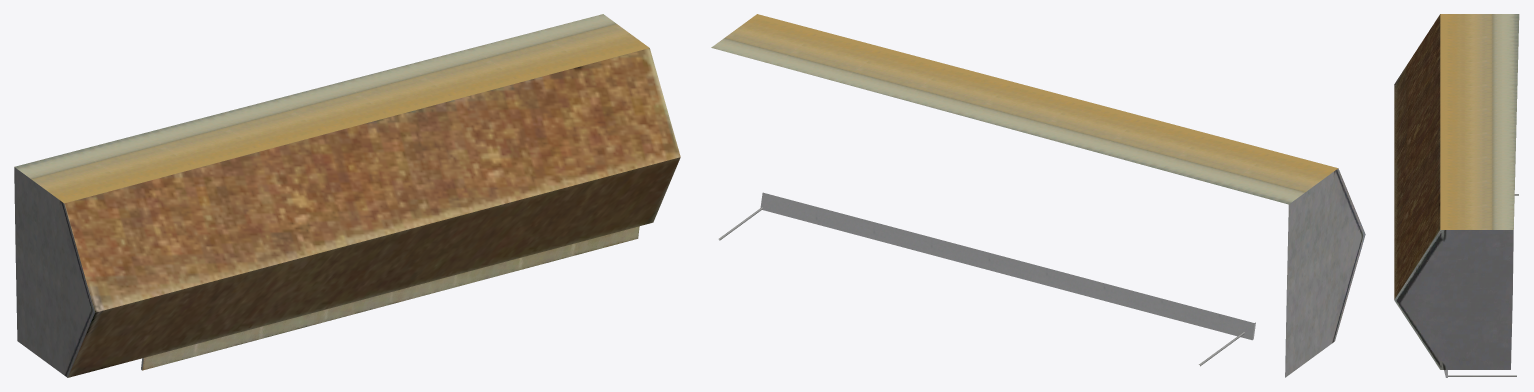
3 views of the same model, side by side, from view 1: azimuth 30°, elevation 25°; view 2: azimuth 150°, elevation 25°; view 3: azimuth 270°, elevation 25° (orthographic). The views are drawn at different scales.
Visible parts, largest first — view 1: Group_MatrixTransform_i96026_Geometry_4, Group_MatrixTransform_i96026_Geometry_2, Group_MatrixTransform_i96026_Geometry_1, Group_MatrixTransform_i96026_Geometry_3; view 2: Group_MatrixTransform_i96026_Geometry_2, Group_MatrixTransform_i96026_Geometry_1, Group_MatrixTransform_i96026_Geometry_8; view 3: Group_MatrixTransform_i96026_Geometry_2, Group_MatrixTransform_i96026_Geometry_0, Group_MatrixTransform_i96026_Geometry_4, Group_MatrixTransform_i96026_Geometry_7.
Boxes of the visible parts, <box> form: Group_MatrixTransform_i96026_Geometry_4: <box>64,48,680,377</box>; Group_MatrixTransform_i96026_Geometry_2: <box>14,14,649,203</box>; Group_MatrixTransform_i96026_Geometry_1: <box>14,167,94,377</box>; Group_MatrixTransform_i96026_Geometry_3: <box>142,226,639,370</box>; Group_MatrixTransform_i96026_Geometry_2: <box>711,14,1337,204</box>; Group_MatrixTransform_i96026_Geometry_1: <box>1285,168,1365,377</box>; Group_MatrixTransform_i96026_Geometry_8: <box>760,192,1255,340</box>; Group_MatrixTransform_i96026_Geometry_2: <box>1440,14,1519,229</box>; Group_MatrixTransform_i96026_Geometry_0: <box>1394,230,1513,369</box>; Group_MatrixTransform_i96026_Geometry_4: <box>1394,14,1440,299</box>; Group_MatrixTransform_i96026_Geometry_7: <box>1447,194,1518,376</box>.
Size of the model in its own units: 30.55 by 10.02 by 7.14.
Materials: 9 (9 with a texture image).
